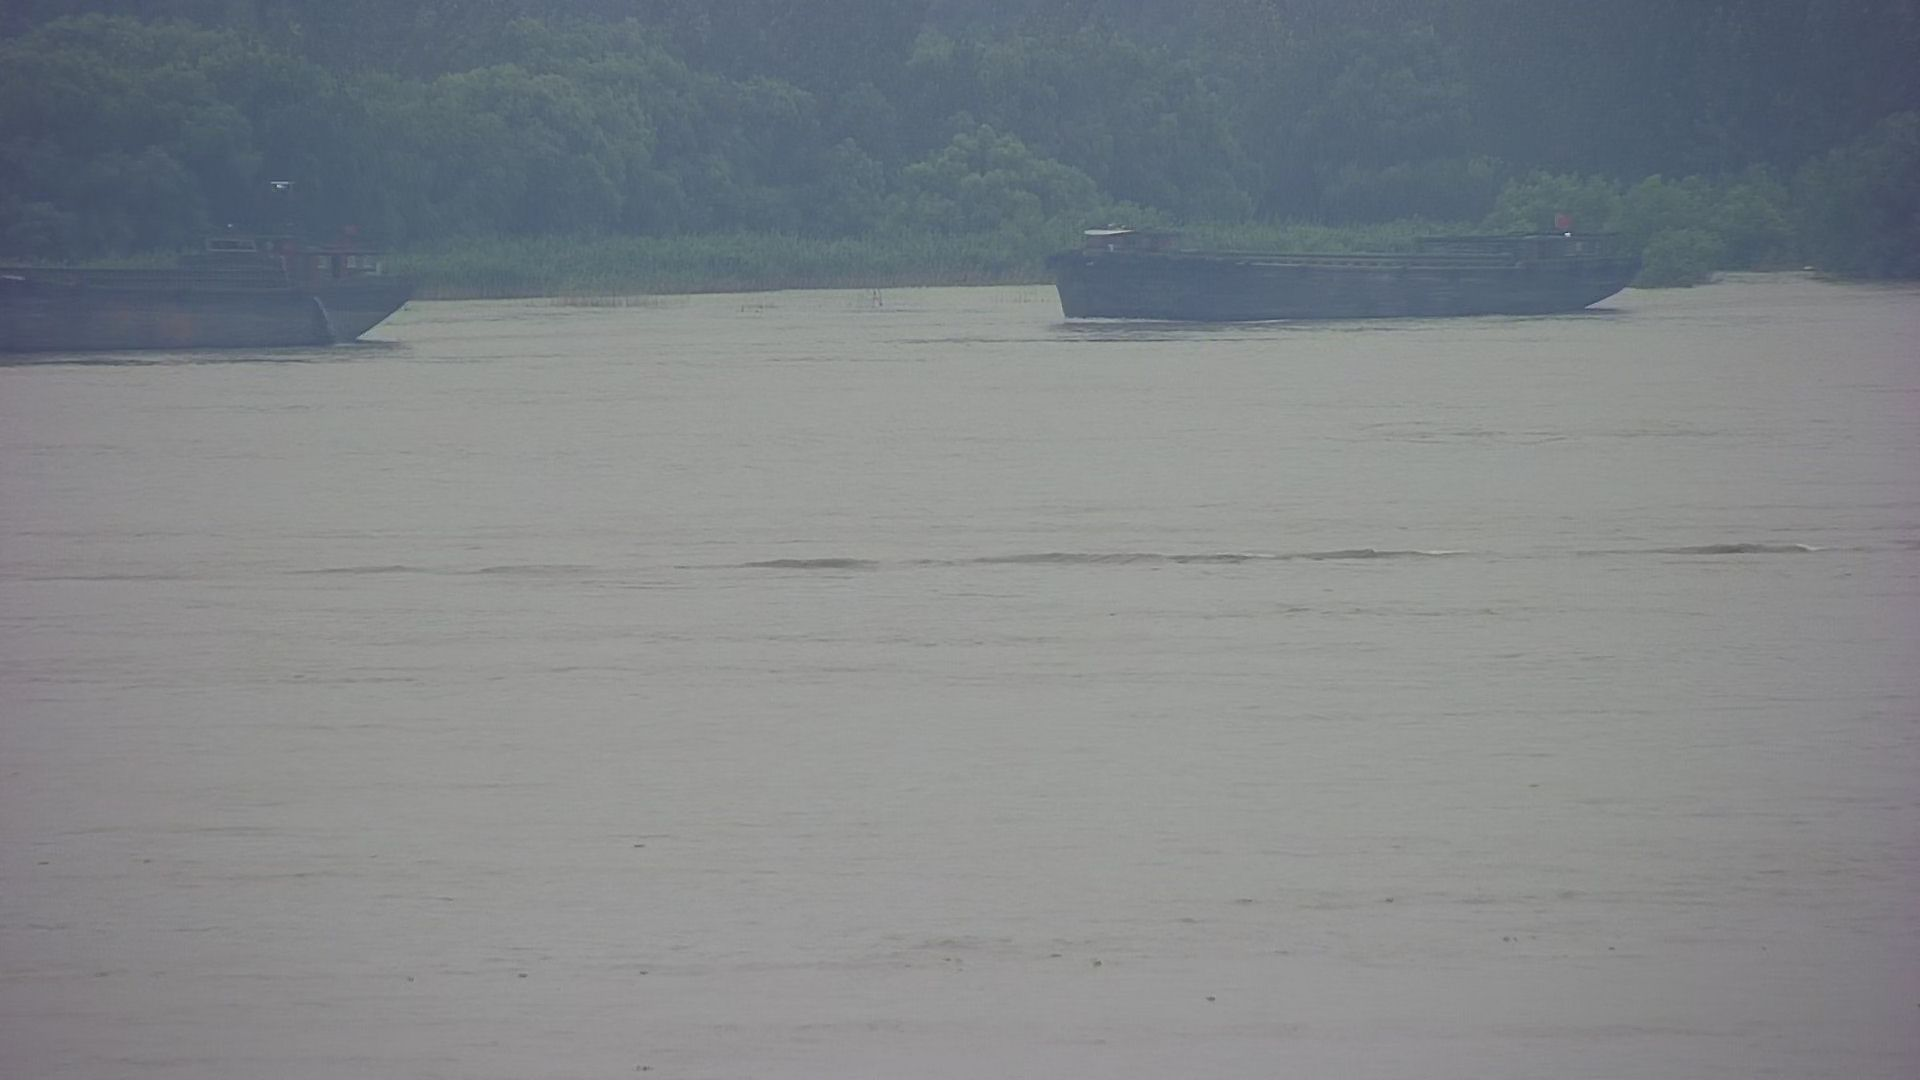ship: (1047, 198, 1648, 334), (1, 200, 444, 371)
